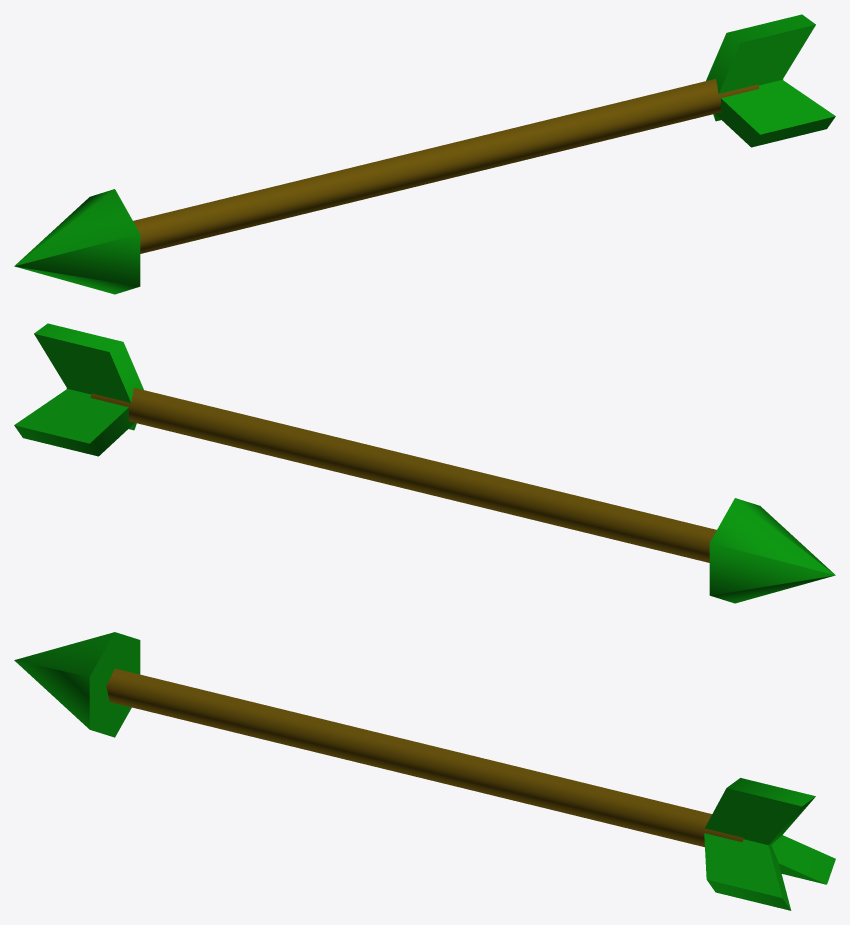
File: Arrow.fbx
3 views of the same model, one above another, from view 1: azimuth 30°, elevation 25°; view 2: azimuth 150°, elevation 25°; view 3: azimuth 330°, elevation 25° (orthographic).
Parts seen in each view (by area): view 1: Würfel; view 2: Würfel; view 3: Würfel.
Boxes of the visible parts, left/top/right/bottom form: Würfel: left=14, top=14, right=835, bottom=294; Würfel: left=14, top=323, right=835, bottom=603; Würfel: left=14, top=632, right=835, bottom=910.
Bounding box in the file's own units: 75.6 × 9.6 × 8.84.
